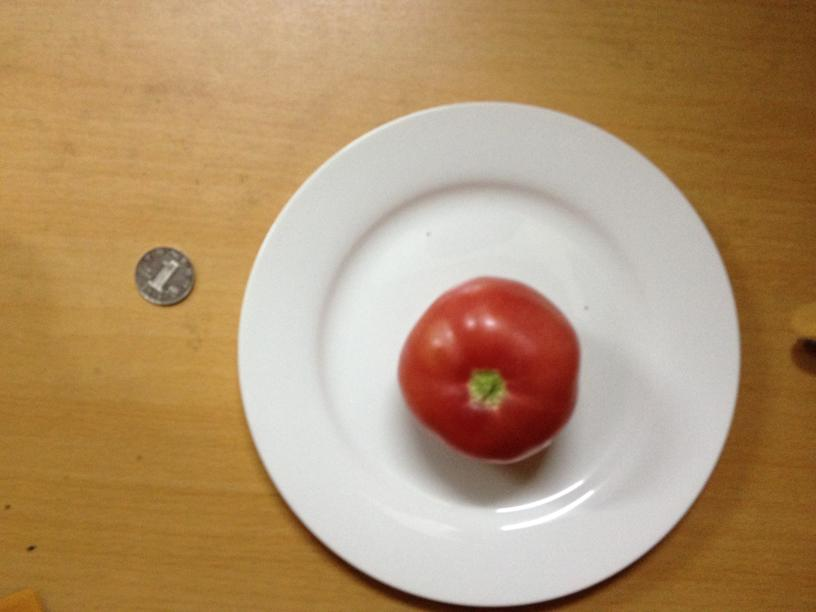coin: (131, 246, 195, 308)
tomato: (388, 276, 580, 461)
